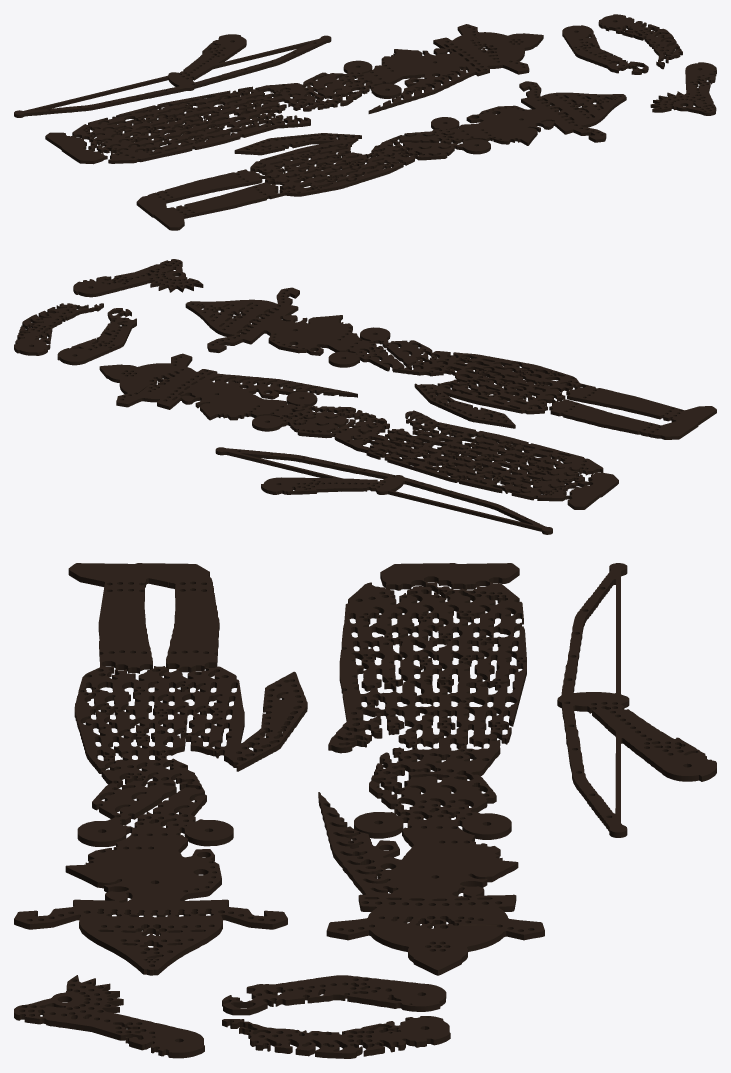
The model's file is ram-sita.glb.
3 renders of one model, top to bottom at view 1: azimuth 30°, elevation 25°; view 2: azimuth 150°, elevation 25°; view 3: azimuth 270°, elevation 25°, orthographic. The views are drawn at different scales.
Visible parts, largest first — view 1: hero_object; view 2: hero_object; view 3: hero_object.
Part boxes in pixels (x1,y1,x2,y2): hero_object: (14, 14, 716, 230); hero_object: (14, 259, 716, 534); hero_object: (14, 563, 716, 1058).
Bounding box in the file's own units: 0.301 × 0.0016 × 0.1824.
